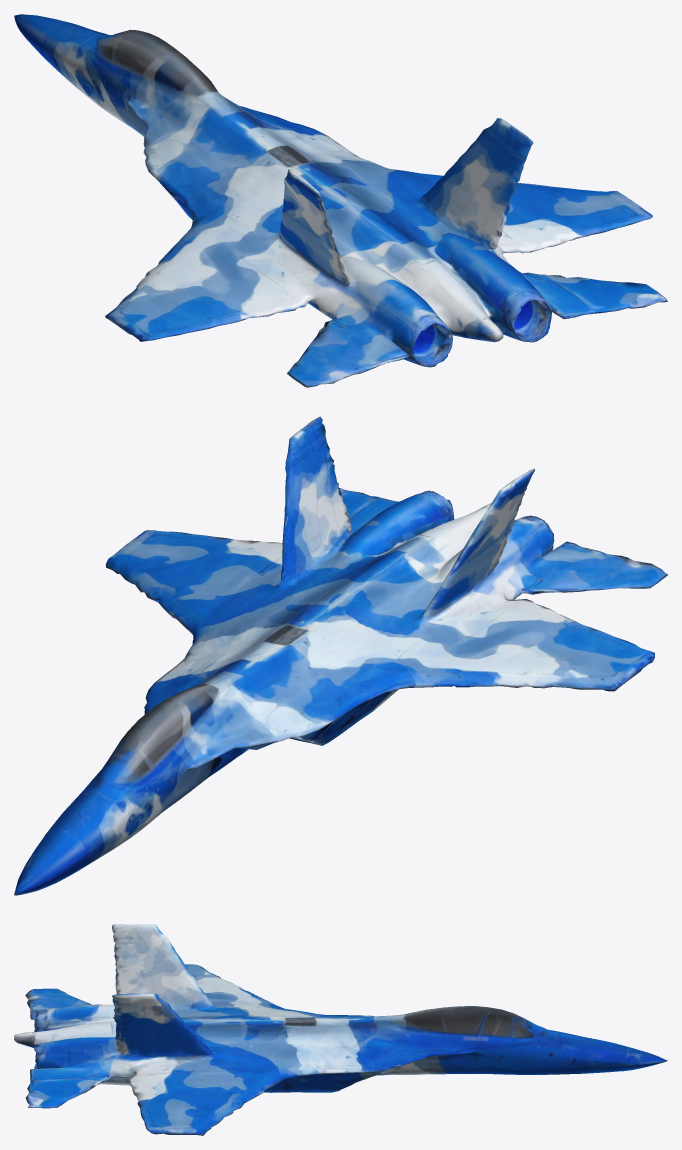
The picture shows the model from 3 angles, top to bottom: view 1: azimuth 30°, elevation 25°; view 2: azimuth 150°, elevation 25°; view 3: azimuth 270°, elevation 25°; orthographic projection. The views are drawn at different scales.
Size of the model in its own units: 1.22 by 0.391 by 2.
1 material, 1 textured.
